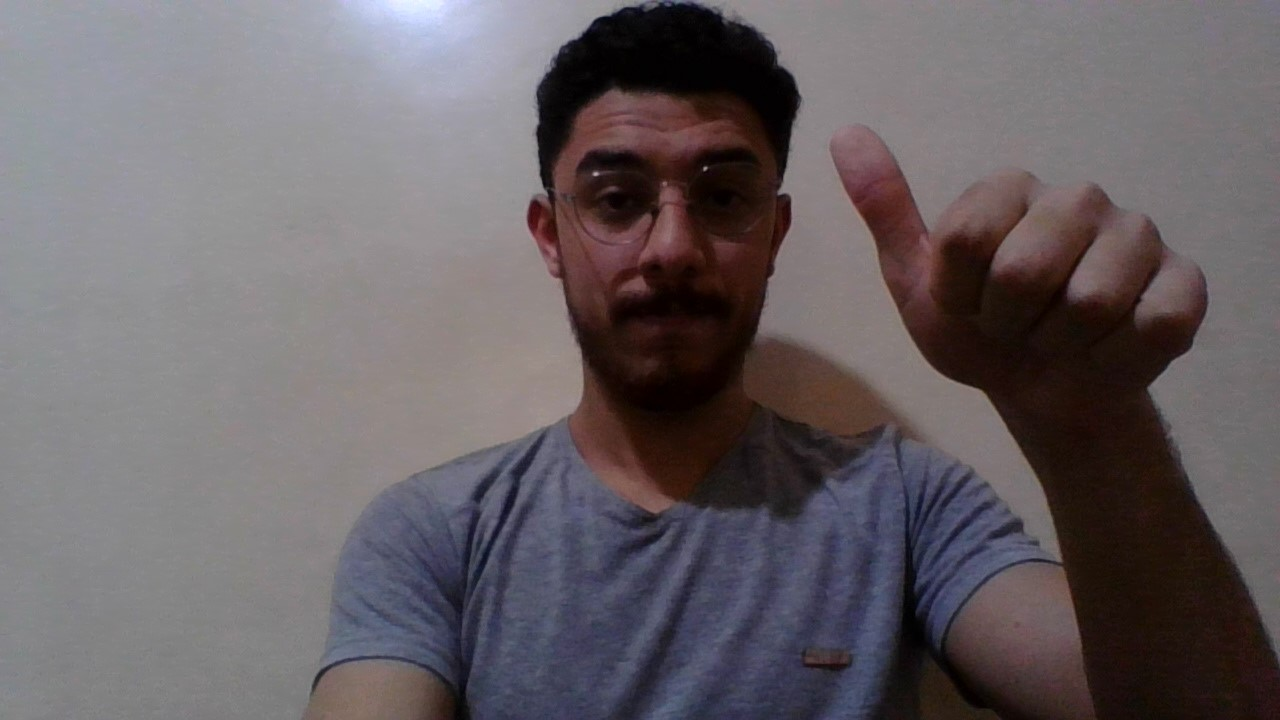Yes: (818, 82, 1212, 470)
